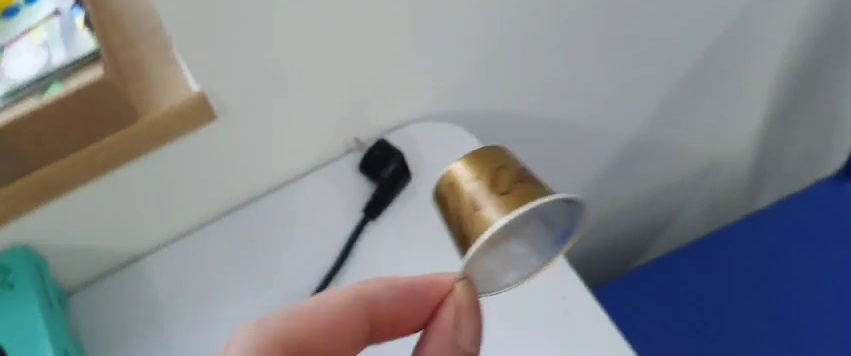capsule_9: (435, 141, 590, 299)
